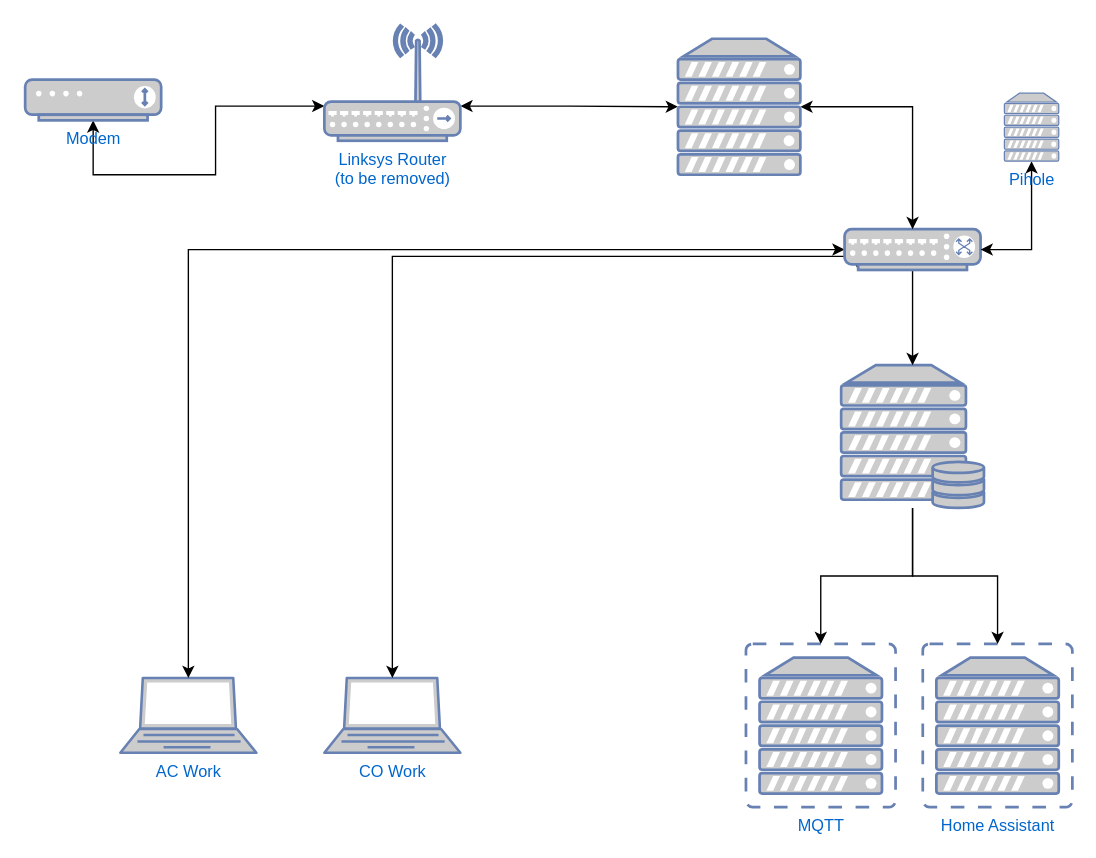
Some shapes in this 1096 by 858 pixel diagram are drawn without their labels. The centre of each missing label's shape, as x and y in pixels:
"ladyrona" belongs at pixel 912 436.
"Main Switch" belongs at pixel 912 249.
"OPNSense" belongs at pixel 738 106.
